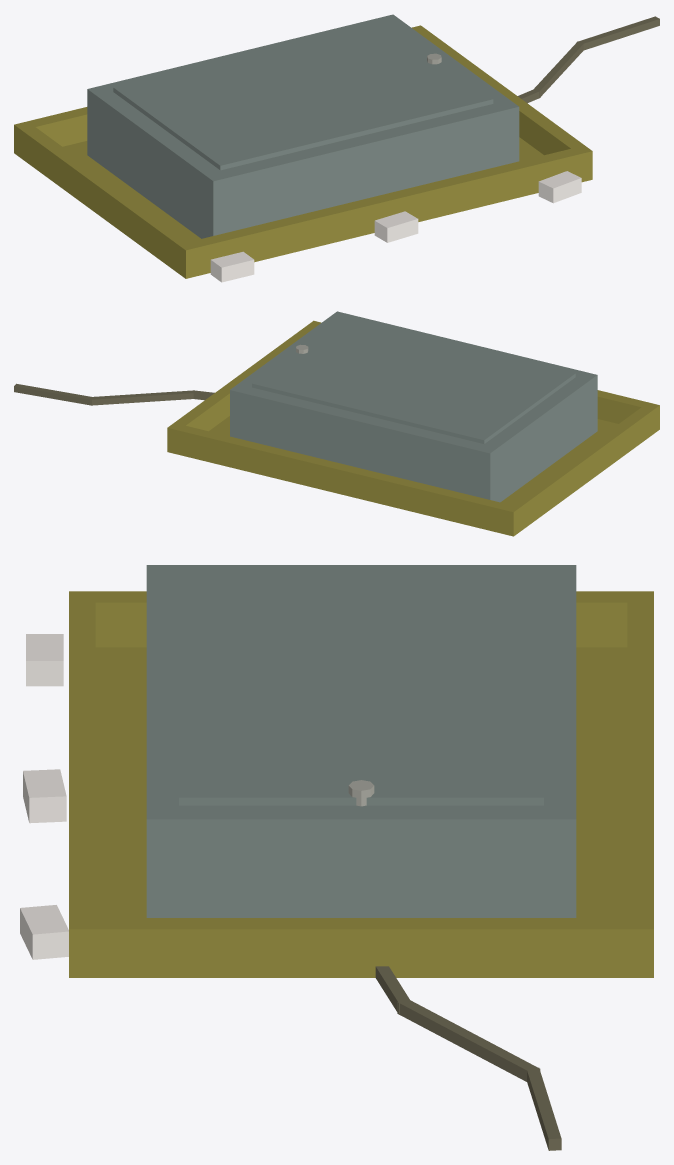
Rendered from SM_CisternaFlexible_v0_Llena_LOD0.fbx.
3 views of the same model, one above another, from view 1: azimuth 30°, elevation 25°; view 2: azimuth 150°, elevation 25°; view 3: azimuth 270°, elevation 25° (orthographic). The views are drawn at different scales.
Parts seen in each view (by area): view 1: SM_farp_betera_v0_LOD0; view 2: SM_farp_betera_v0_LOD0; view 3: SM_farp_betera_v0_LOD0.
Boxes of the visible parts, x1=… form: SM_farp_betera_v0_LOD0: x1=14, y1=14, x2=659, y2=282; SM_farp_betera_v0_LOD0: x1=14, y1=311, x2=659, y2=536; SM_farp_betera_v0_LOD0: x1=20, y1=565, x2=653, y2=1150.
Bounding box in the file's own units: 11.26 × 1.36 × 5.91.
